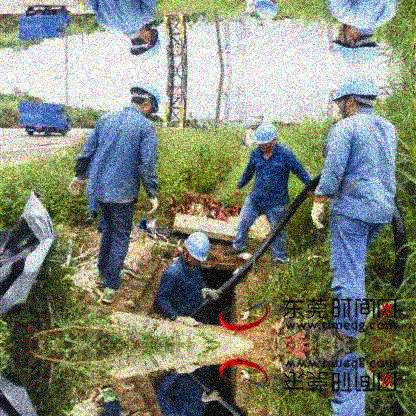helmet: (334, 24, 380, 63), (334, 74, 378, 113), (129, 27, 165, 64), (131, 81, 163, 117), (180, 232, 207, 265), (253, 124, 278, 154)
